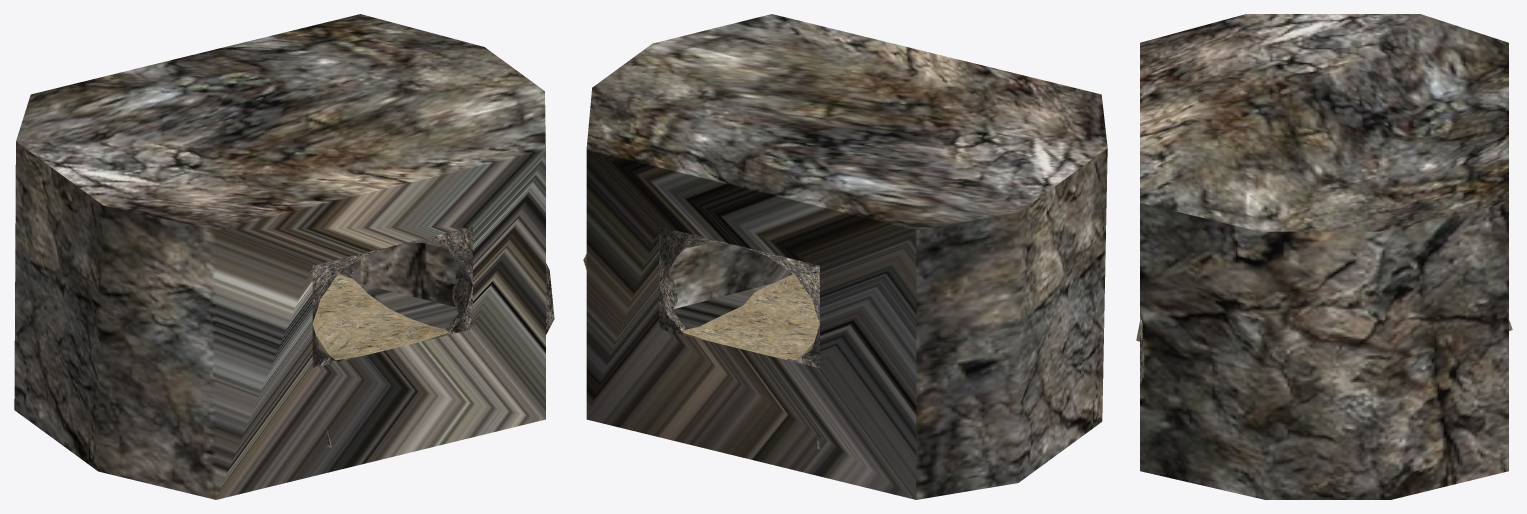
The model's file is pir_m_are_cav_hallWide200_vista.fbx.
3 renders of one model, left to right at view 1: azimuth 30°, elevation 25°; view 2: azimuth 150°, elevation 25°; view 3: azimuth 270°, elevation 25°, orthographic.
Visible parts, largest first — view 1: blackbox, hallWide200_floor, hallWide200_wall; view 2: blackbox, hallWide200_floor, hallWide200_wall; view 3: blackbox.
Boxes of the visible parts, x1,y1,x2,y2 form: blackbox: [14, 14, 545, 499]; hallWide200_floor: [312, 274, 448, 360]; hallWide200_wall: [312, 226, 554, 448]; blackbox: [586, 14, 1107, 499]; hallWide200_floor: [683, 274, 819, 360]; hallWide200_wall: [583, 226, 820, 449]; blackbox: [1140, 14, 1508, 499].
Size of the model in its own units: 27921 by 16058 by 20417.
2 materials, 2 textured.
